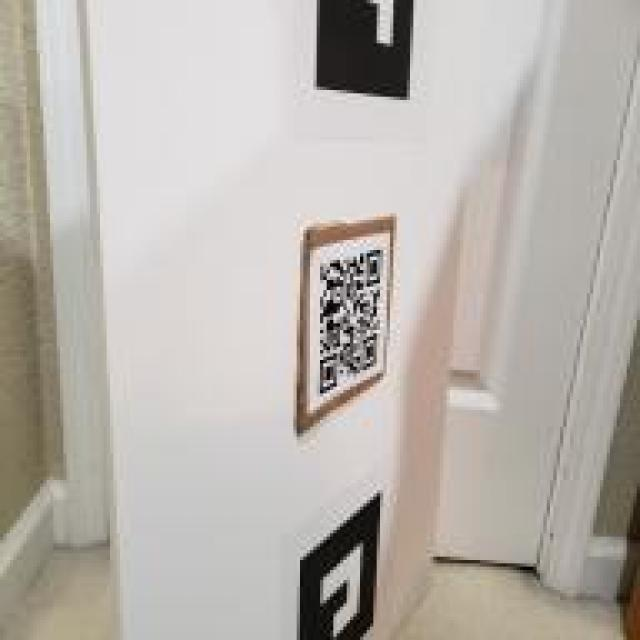QR_CODE: (307, 240, 390, 405)
